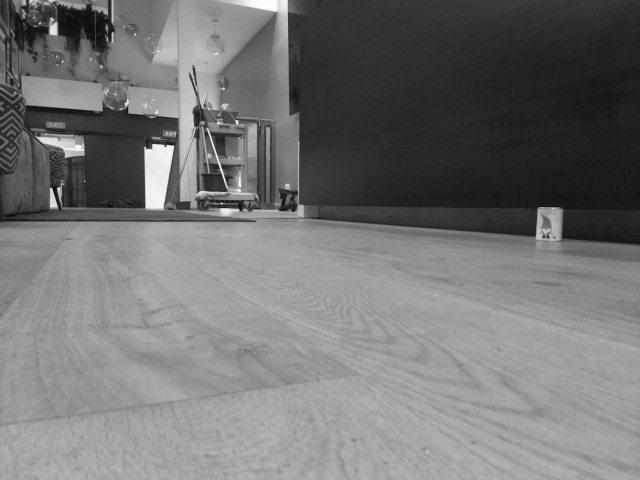gnome: (538, 213, 559, 239)
